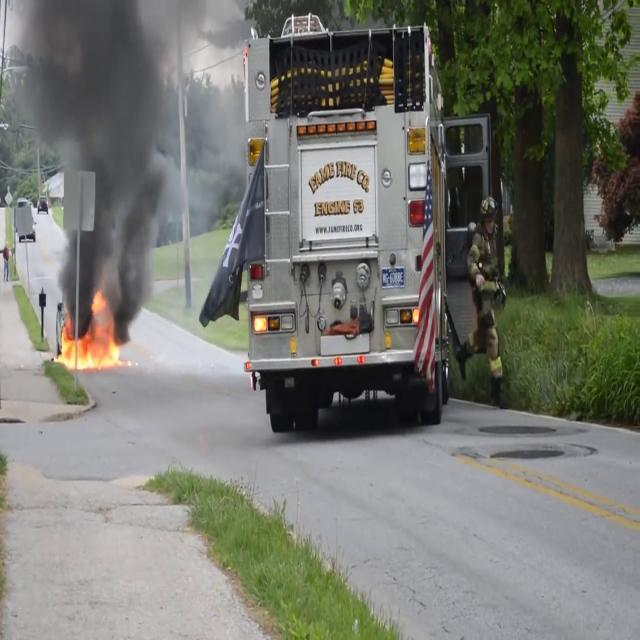Fire: (58, 306, 126, 374)
Smoke: (14, 0, 191, 317)
